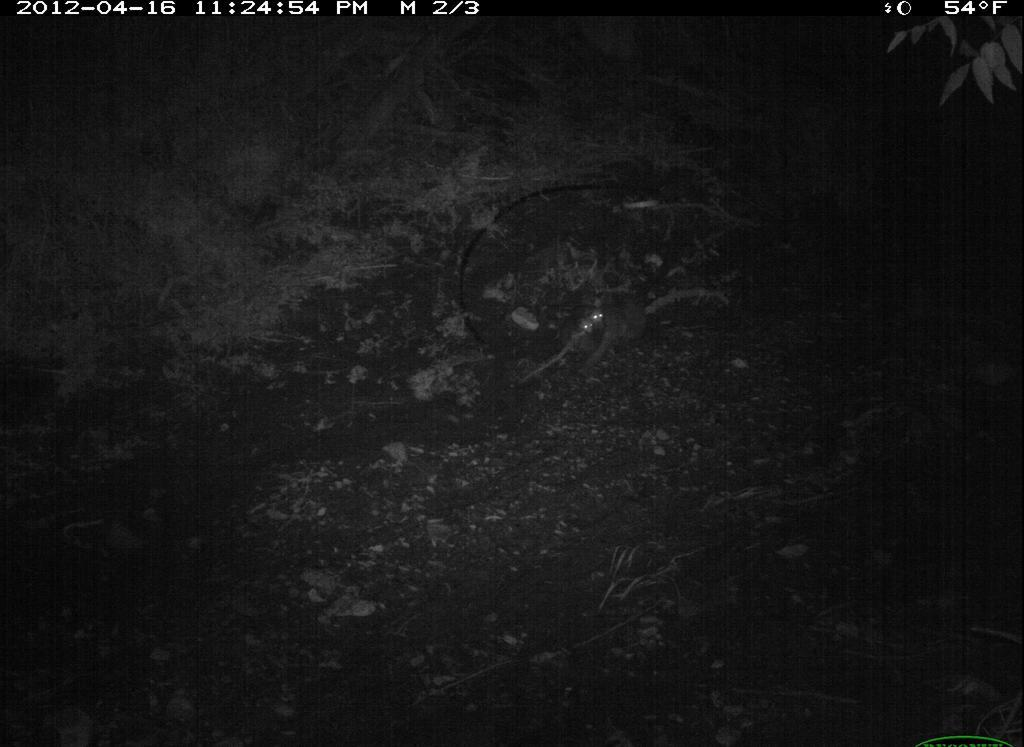opossum: (560, 272, 678, 381)
